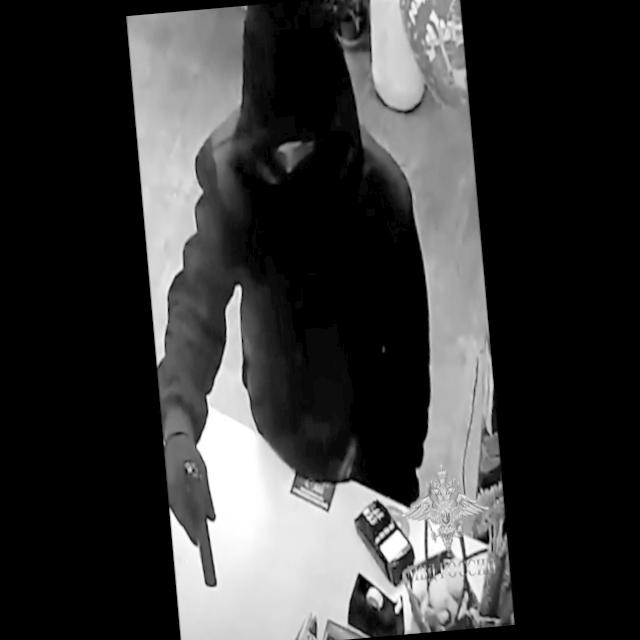gun: (162, 414, 225, 596)
person with a gun: (130, 14, 450, 596)
